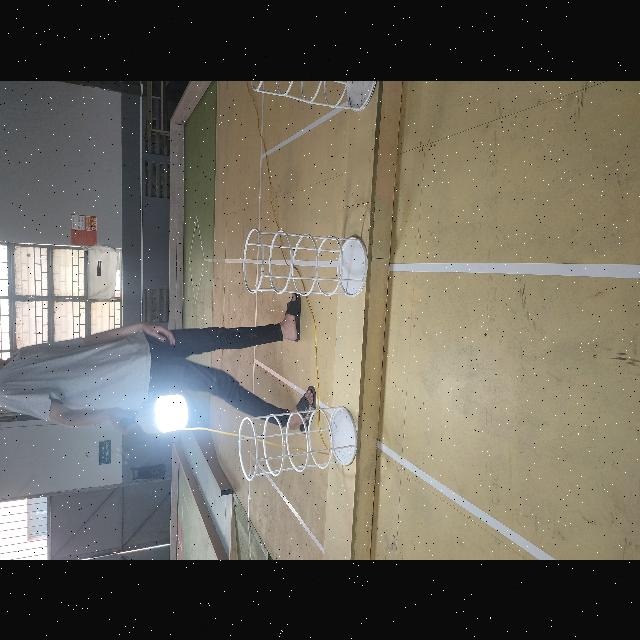S: (236, 404, 359, 482), (241, 225, 369, 299), (249, 80, 379, 114)
